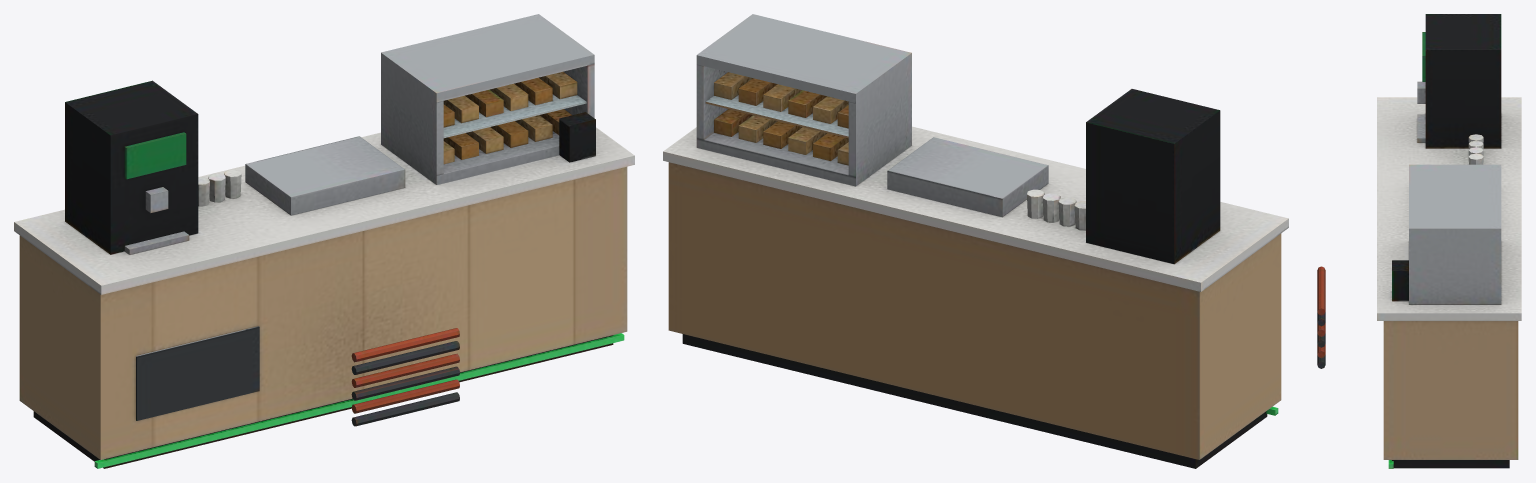
Rendered from lada_zabka.glb.
The picture shows the model from 3 angles, left to right: view 1: azimuth 30°, elevation 25°; view 2: azimuth 150°, elevation 25°; view 3: azimuth 270°, elevation 25°; orthographic projection. The views are drawn at different scales.
Visible parts, largest first — view 1: lada_zabka; view 2: lada_zabka; view 3: lada_zabka.
Part boxes in pixels (x1,y1,x2,y2): lada_zabka: [14, 14, 634, 468]; lada_zabka: [663, 14, 1288, 468]; lada_zabka: [1317, 14, 1521, 468].
Bounding box in the file's own units: 3.04 × 1.7 × 1.21.
Materials: 1 (1 with a texture image).
